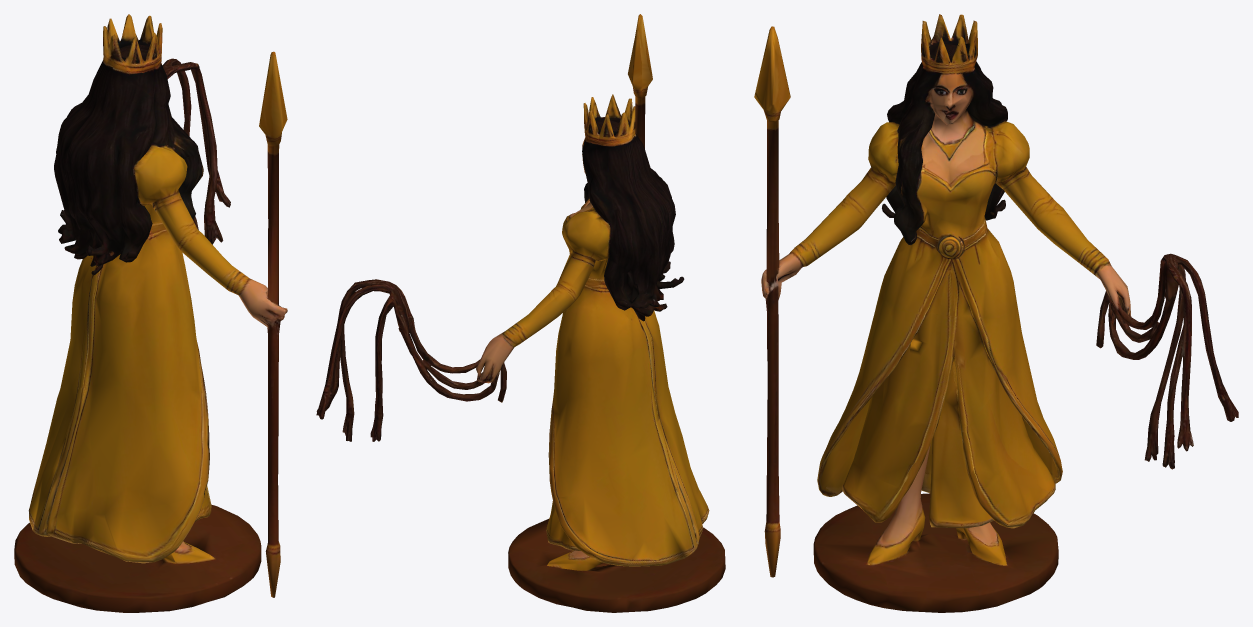
3 views of the same model, side by side, from view 1: azimuth 30°, elevation 25°; view 2: azimuth 150°, elevation 25°; view 3: azimuth 270°, elevation 25° (orthographic). The views are drawn at different scales.
Parts seen in each view (by area): view 1: tripo_node_bdcc5f99-56ef-429c-bb4d-3267816556ed; view 2: tripo_node_bdcc5f99-56ef-429c-bb4d-3267816556ed; view 3: tripo_node_bdcc5f99-56ef-429c-bb4d-3267816556ed.
Boxes of the visible parts, left/top/right/bottom form: tripo_node_bdcc5f99-56ef-429c-bb4d-3267816556ed: left=14, top=14, right=287, bottom=612; tripo_node_bdcc5f99-56ef-429c-bb4d-3267816556ed: left=316, top=14, right=725, bottom=612; tripo_node_bdcc5f99-56ef-429c-bb4d-3267816556ed: left=754, top=14, right=1238, bottom=612.
Bounding box in the file's own units: 0.6083 × 0.9998 × 0.7802.
Materials: 1 (1 with a texture image).
